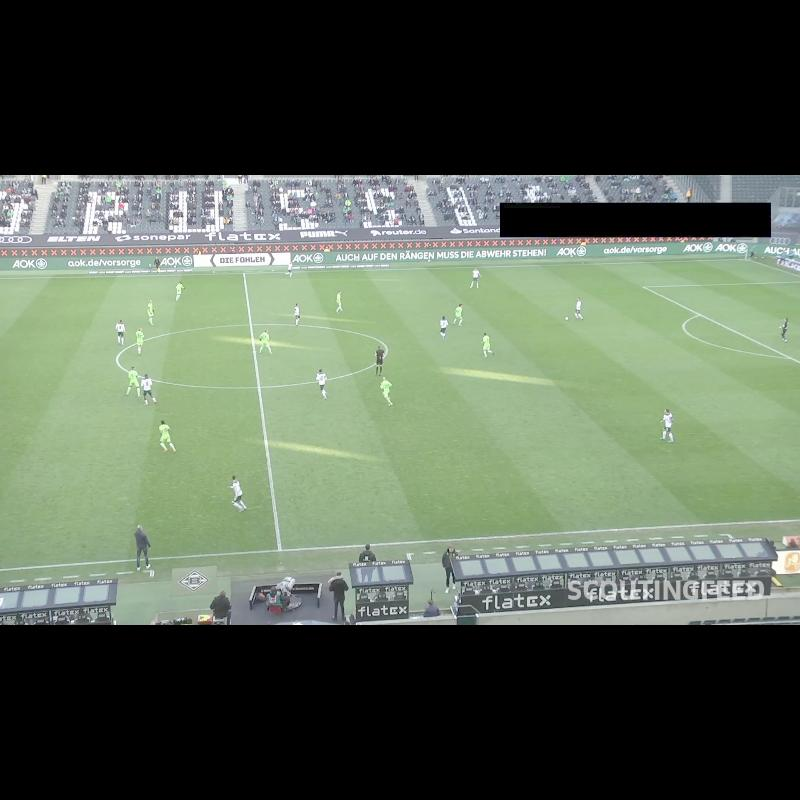cross_recipient_zone: (644, 281, 800, 363)
crossing_player_zone: (514, 259, 800, 291), (761, 422, 800, 454)
pitch: (0, 259, 800, 570)
